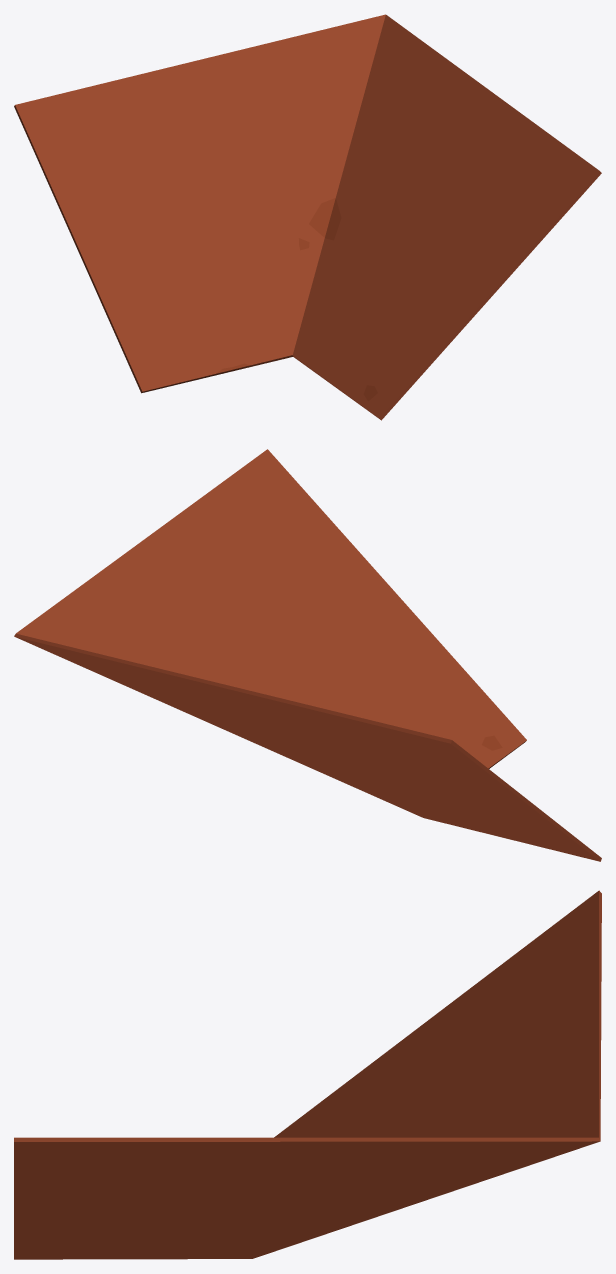
The model's file is Roof_09.fbx.
3 renders of one model, top to bottom at view 1: azimuth 30°, elevation 25°; view 2: azimuth 150°, elevation 25°; view 3: azimuth 270°, elevation 25°, orthographic. The views are drawn at different scales.
Visible parts, largest first — view 1: Roof_09_LOD0; view 2: Roof_09_LOD0; view 3: Roof_09_LOD0.
Boxes of the visible parts, x1,y1,x2,y2 form: Roof_09_LOD0: [14, 14, 601, 420]; Roof_09_LOD0: [14, 449, 601, 861]; Roof_09_LOD0: [14, 890, 601, 1259].
Size of what is drawn, in the model's own units: 1005 by 505 by 1005.
